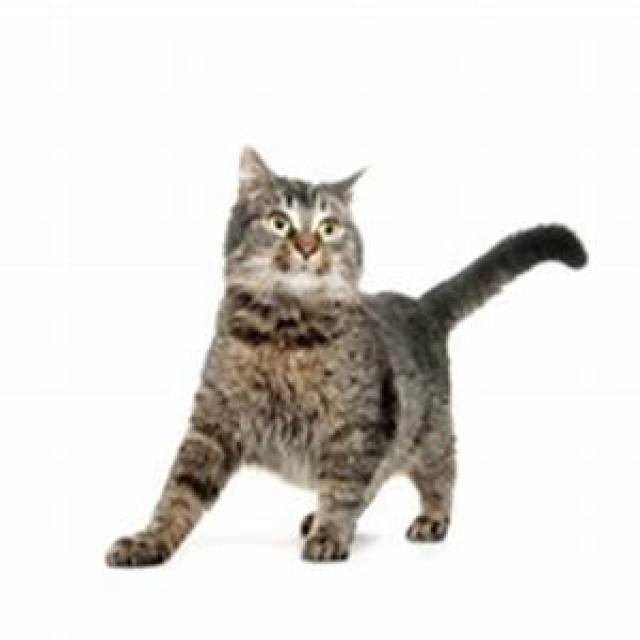cat: (102, 142, 587, 568)
